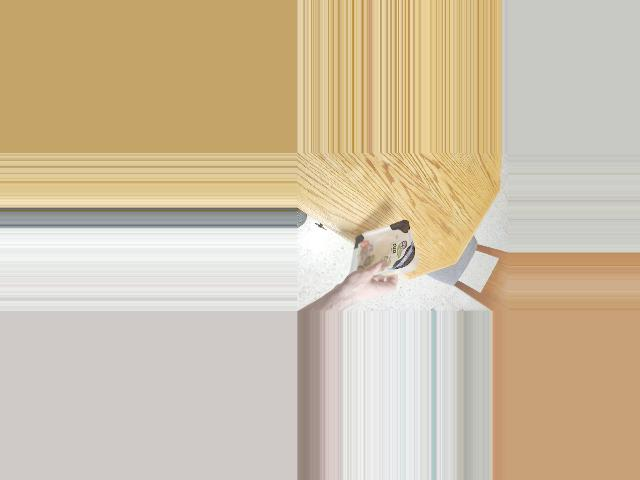cheese: (346, 226, 420, 276)
